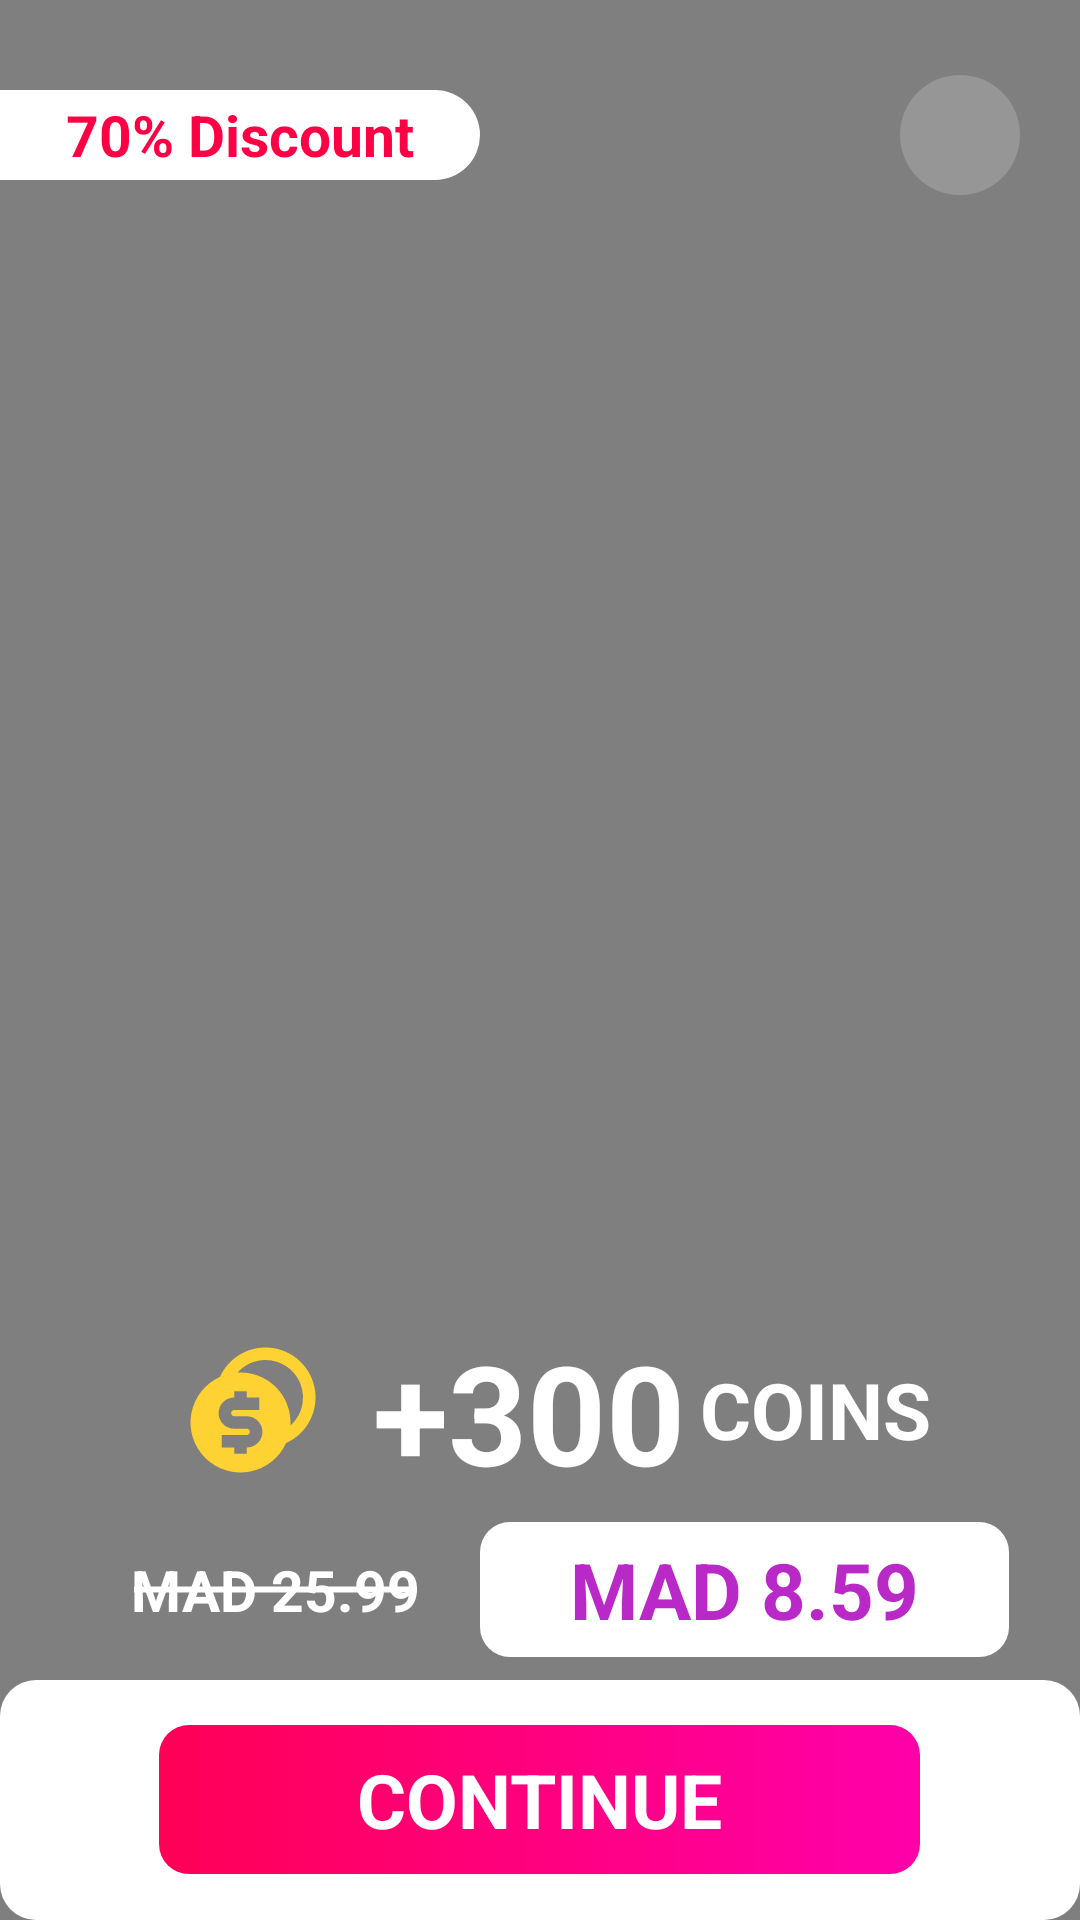

Where icons sit on this 1080w x 1920h app screen, as box=[x1, y1, x2, y2]:
coin: box=[190, 1347, 316, 1473]
